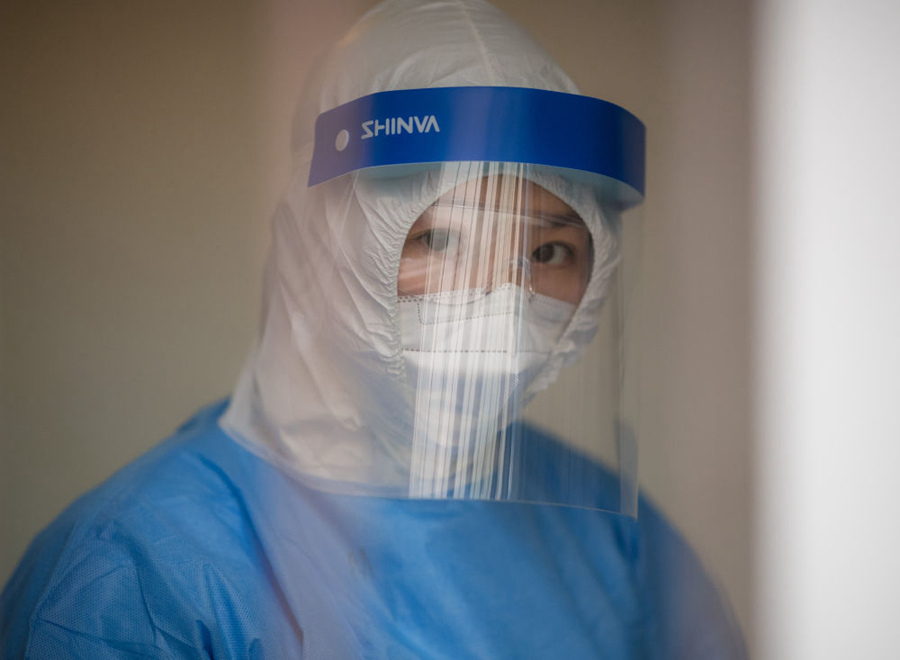with_mask: (347, 164, 602, 456)
